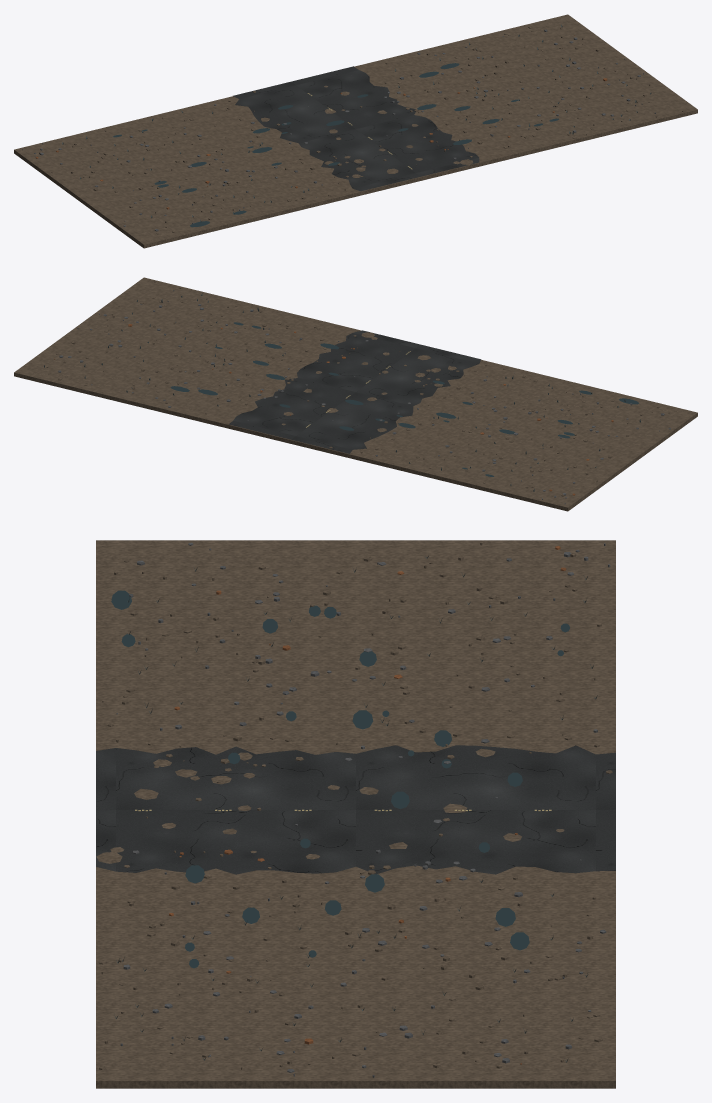
Rendered from outskirts-ground.glb.
The picture shows the model from 3 angles, top to bottom: view 1: azimuth 30°, elevation 25°; view 2: azimuth 150°, elevation 25°; view 3: azimuth 270°, elevation 25°; orthographic projection. The views are drawn at different scales.
Visible parts, largest first — view 1: CBOK1_OutskirtsGround_Earth, CBOK1_OutskirtsGround_Asphalt, CBOK1_OutskirtsGround_Water, CBOK1_OutskirtsGround_Concrete; view 2: CBOK1_OutskirtsGround_Earth, CBOK1_OutskirtsGround_Asphalt, CBOK1_OutskirtsGround_Water, CBOK1_OutskirtsGround_Concrete; view 3: CBOK1_OutskirtsGround_Earth, CBOK1_OutskirtsGround_Asphalt, CBOK1_OutskirtsGround_Water, CBOK1_OutskirtsGround_Concrete.
Part boxes in pixels (x1,y1,x2,y2): CBOK1_OutskirtsGround_Earth: (14, 14, 697, 248); CBOK1_OutskirtsGround_Asphalt: (233, 66, 479, 191); CBOK1_OutskirtsGround_Water: (113, 63, 558, 227); CBOK1_OutskirtsGround_Concrete: (22, 29, 655, 231); CBOK1_OutskirtsGround_Earth: (14, 277, 697, 511); CBOK1_OutskirtsGround_Asphalt: (228, 330, 480, 453); CBOK1_OutskirtsGround_Water: (170, 322, 639, 476); CBOK1_OutskirtsGround_Concrete: (58, 290, 670, 504); CBOK1_OutskirtsGround_Earth: (96, 540, 615, 1088); CBOK1_OutskirtsGround_Asphalt: (96, 745, 615, 874); CBOK1_OutskirtsGround_Water: (111, 590, 569, 968); CBOK1_OutskirtsGround_Concrete: (116, 542, 610, 1077).
Size of the model in its own units: 64 by 0.8197 by 26.
Materials: 7 (6 with a texture image).
